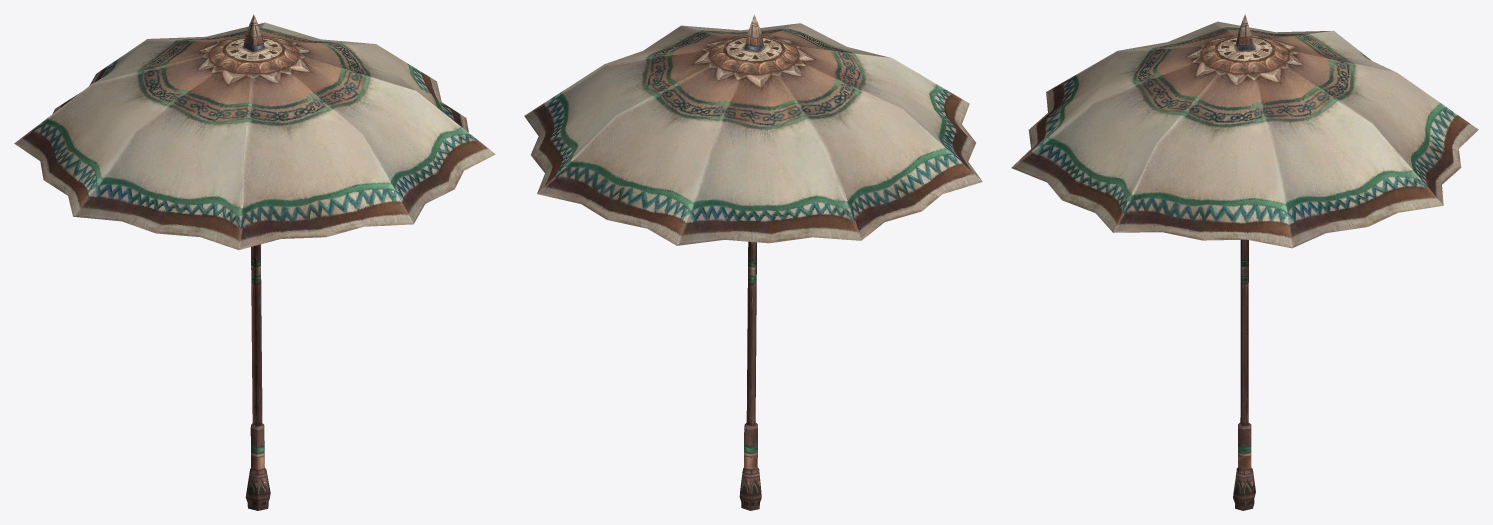
Rendered from C5_Build_6.FBX.
3 renders of one model, left to right at view 1: azimuth 30°, elevation 25°; view 2: azimuth 150°, elevation 25°; view 3: azimuth 270°, elevation 25°, orthographic.
Visible parts, largest first — view 1: C5_Build_6; view 2: C5_Build_6; view 3: C5_Build_6.
Part boxes in pixels (x1=…): C5_Build_6: x1=14, y1=14, x2=495, y2=510; C5_Build_6: x1=524, y1=14, x2=982, y2=510; C5_Build_6: x1=1011, y1=14, x2=1478, y2=510.
Size of the model in its own units: 298 by 341 by 295.
